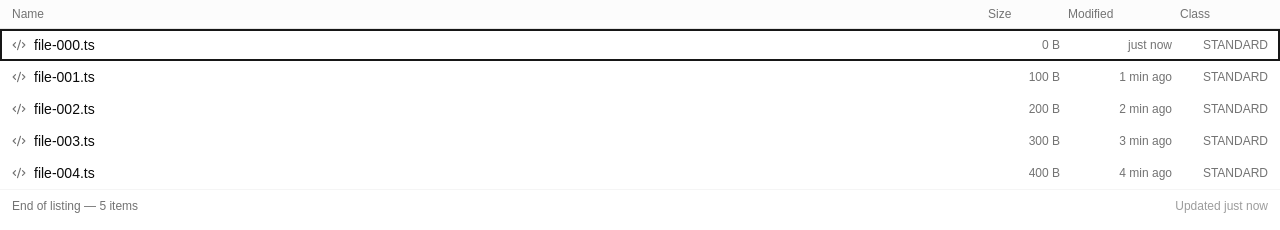
Test: DetailsView — sort › sorts by name ascending on first click, descending on second
// First click → ascending (▲)
Click the button "Name". click: coordinates (28, 14)
box: [12, 6, 972, 22]
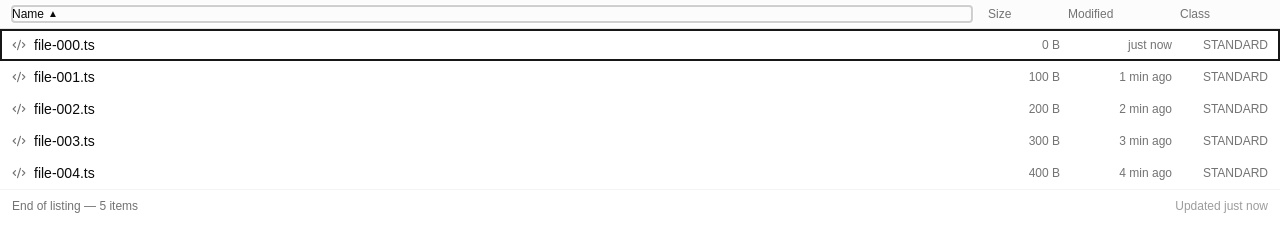
Check: the button "Name ▲" is shown
// Second click → descending (▼)
Click the button "Name ▲". click: coordinates (28, 14)
box: [12, 6, 972, 22]
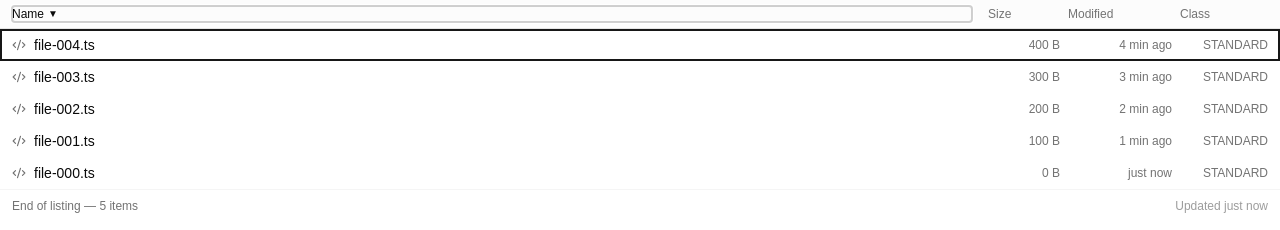
Check: the button "Name ▼" is shown, box [12, 6, 972, 22]
